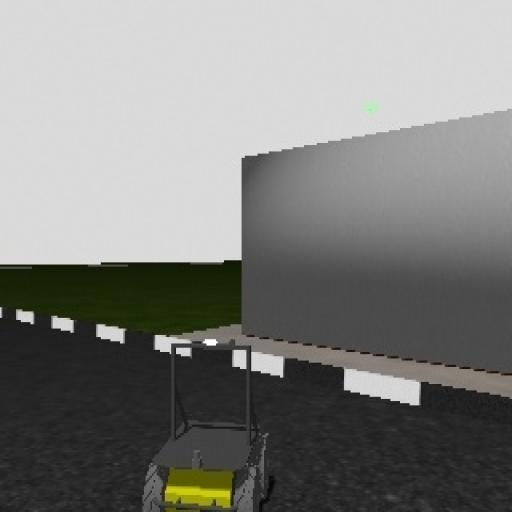huskya200: (141, 329, 281, 512)
